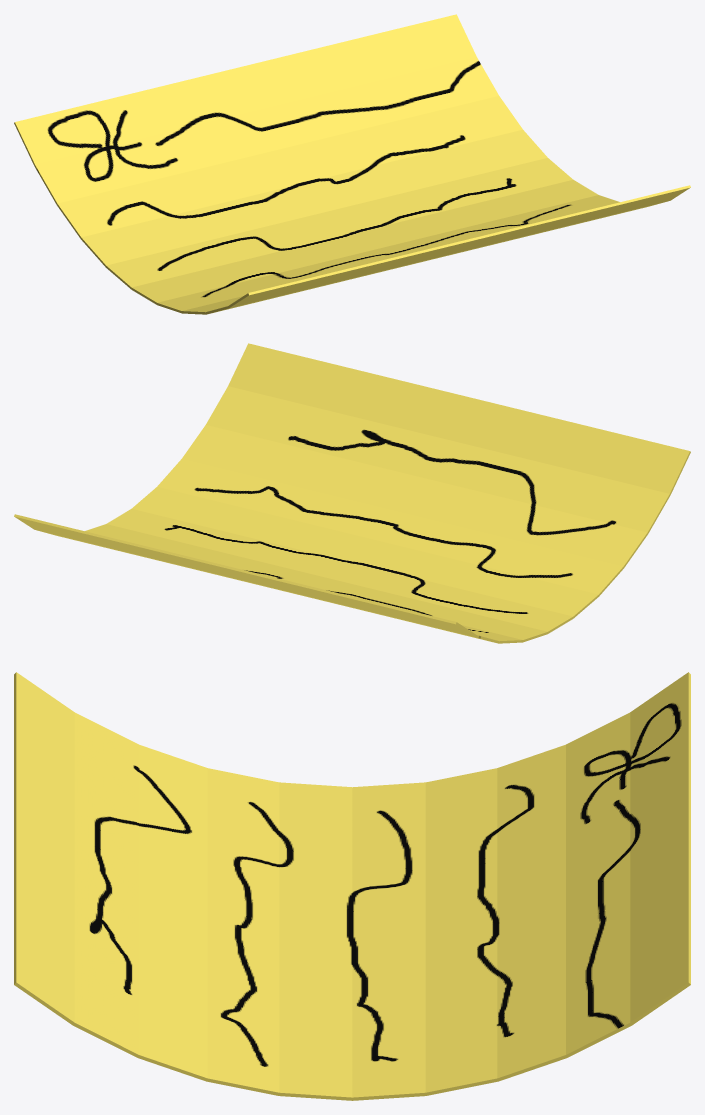
The model's file is Sticky note.fbx.
The picture shows the model from 3 angles, top to bottom: view 1: azimuth 30°, elevation 25°; view 2: azimuth 150°, elevation 25°; view 3: azimuth 270°, elevation 25°; orthographic projection. The views are drawn at different scales.
Parts seen in each view (by area): view 1: Plane; view 2: Plane; view 3: Plane.
Boxes of the visible parts, box(x1,y1,x2,y2) form: Plane: box(14, 14, 690, 314); Plane: box(14, 343, 690, 643); Plane: box(14, 672, 690, 1100).
Size of the model in its own units: 200 by 35.58 by 184.
Materials: 2 (1 with a texture image).
